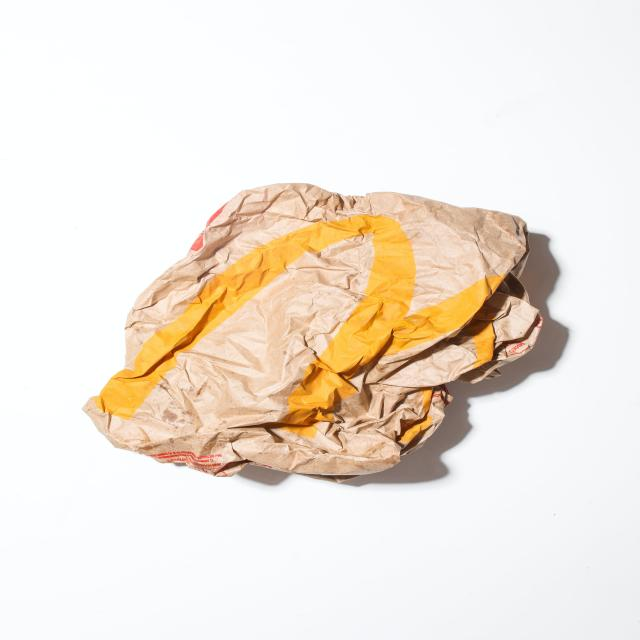cardboard: (220, 226, 453, 438)
